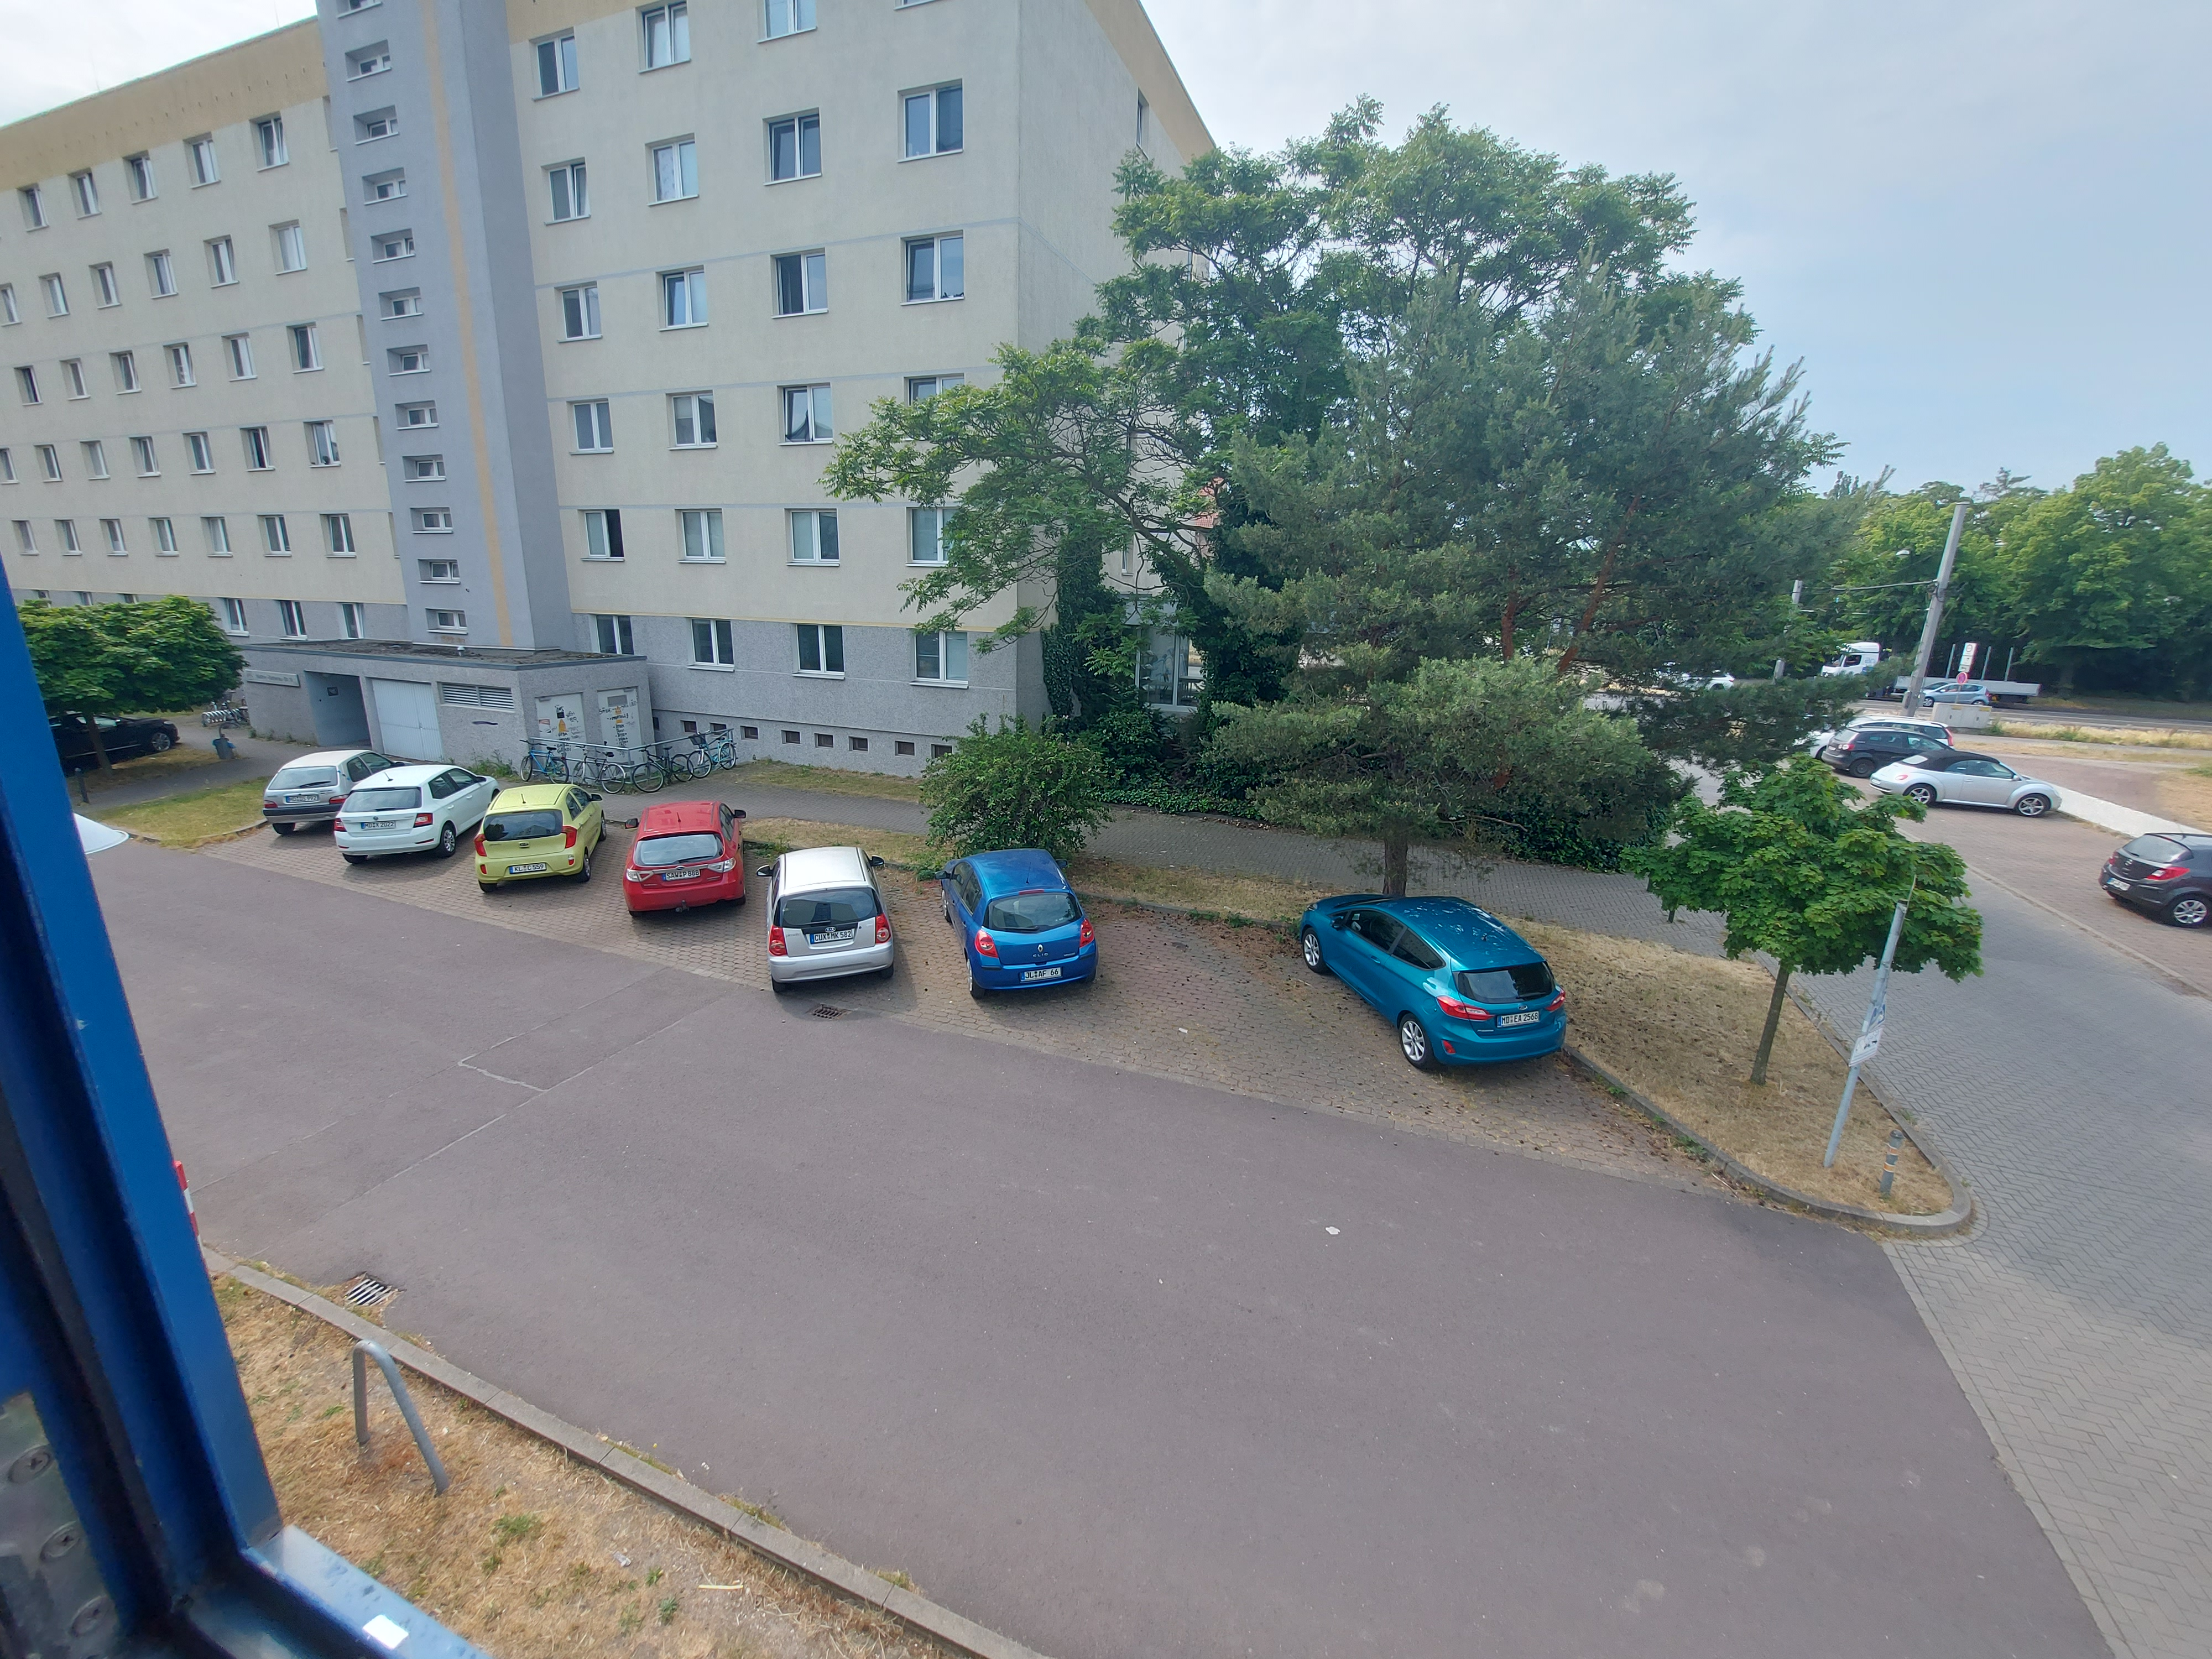spot: (631, 807, 738, 917), (472, 786, 582, 894), (345, 767, 453, 877), (775, 868, 883, 976), (1449, 965, 1557, 1073), (1148, 925, 1256, 1033), (982, 878, 1090, 986), (239, 758, 347, 866)
